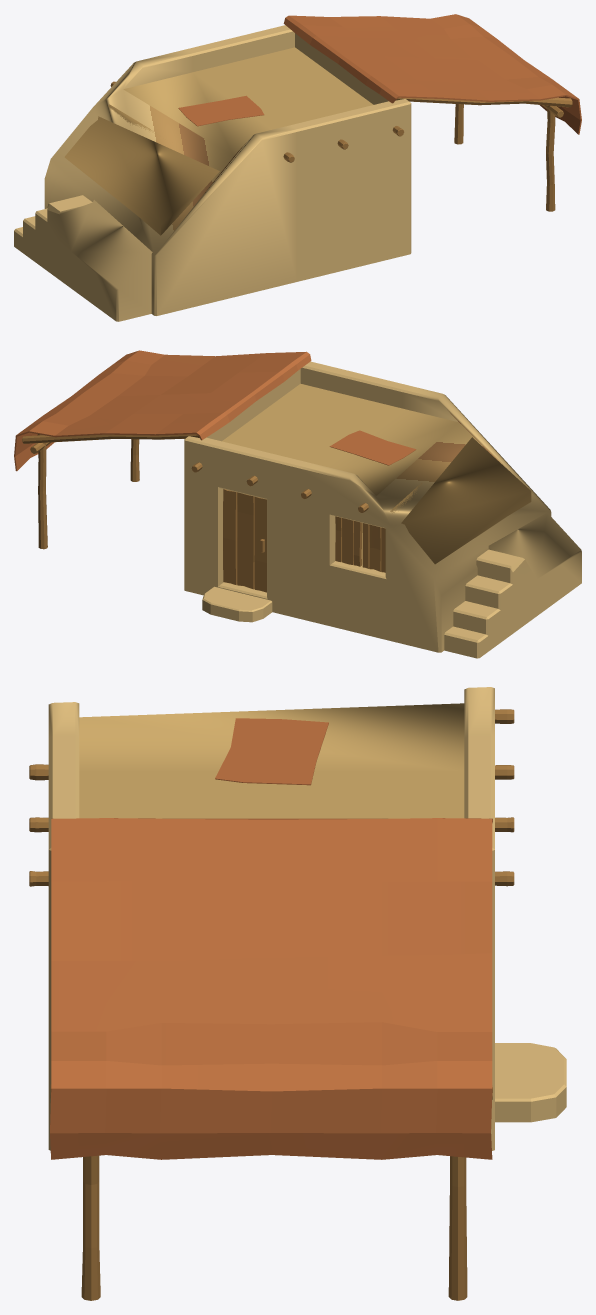
File: House1_broken1_.fbx
3 renders of one model, top to bottom at view 1: azimuth 30°, elevation 25°; view 2: azimuth 150°, elevation 25°; view 3: azimuth 270°, elevation 25°, orthographic. The views are drawn at different scales.
Visible parts, largest first — view 1: House1; view 2: House1; view 3: House1.
Part boxes in pixels (bbox=[...]): House1: bbox=[14, 14, 581, 321]; House1: bbox=[14, 350, 581, 658]; House1: bbox=[29, 687, 566, 1300].
Bounding box in the file's own units: 1048 × 349 × 529.
